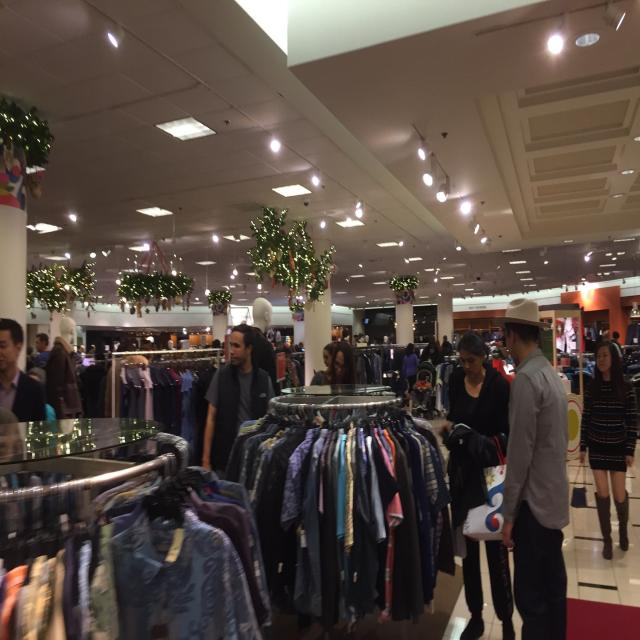body: (492, 298, 572, 639), (440, 326, 518, 640), (576, 337, 639, 561), (200, 321, 277, 481), (0, 317, 47, 487), (306, 341, 358, 421), (50, 310, 87, 422), (248, 296, 279, 374), (309, 341, 356, 386), (26, 366, 56, 421), (282, 340, 306, 388), (409, 370, 434, 412), (402, 342, 421, 396), (125, 334, 178, 353), (494, 324, 510, 378), (32, 332, 52, 368), (419, 340, 440, 366), (610, 329, 624, 356), (440, 335, 452, 363), (322, 342, 335, 366), (331, 333, 357, 344), (585, 331, 596, 354), (610, 331, 622, 352), (357, 332, 373, 344), (88, 344, 97, 360), (208, 339, 222, 349), (25, 346, 35, 358), (382, 334, 390, 348)
